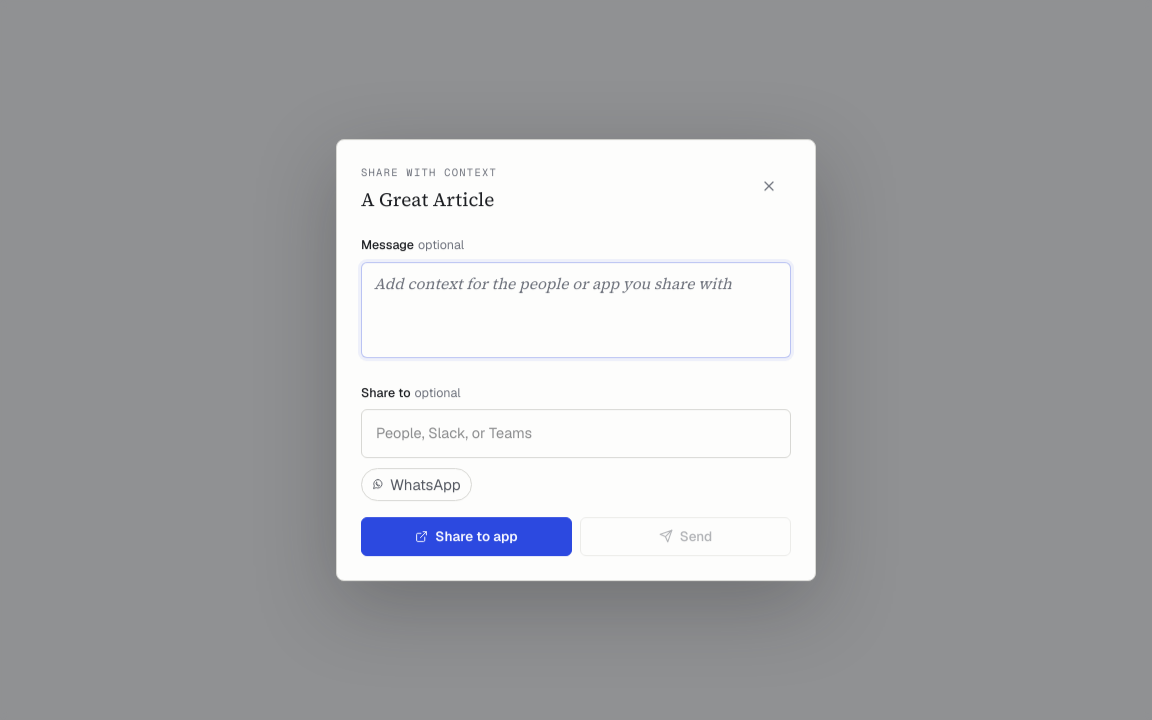
Test case: <ShareModal> › excludes already-added recipients from results and pluralises the count
In the dropdown labelled "Share to": (576, 434) [372, 416, 780, 451], type "@bo"
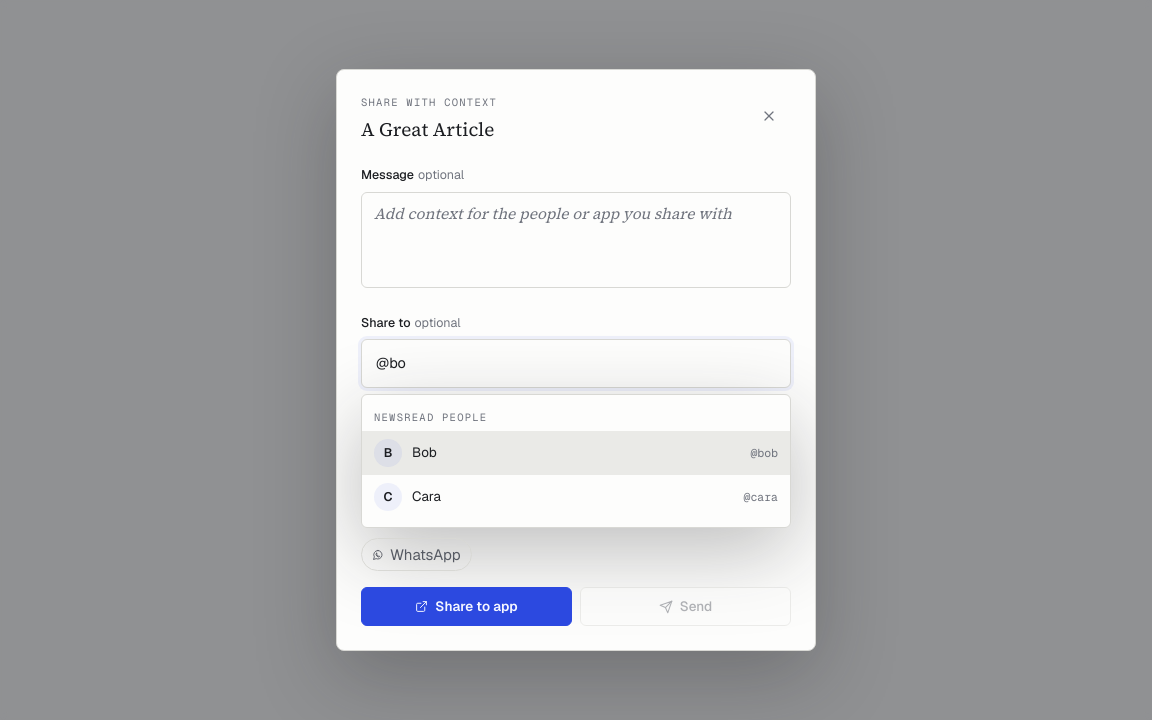
Click the text "Bob": (424, 452) [412, 443, 437, 461]
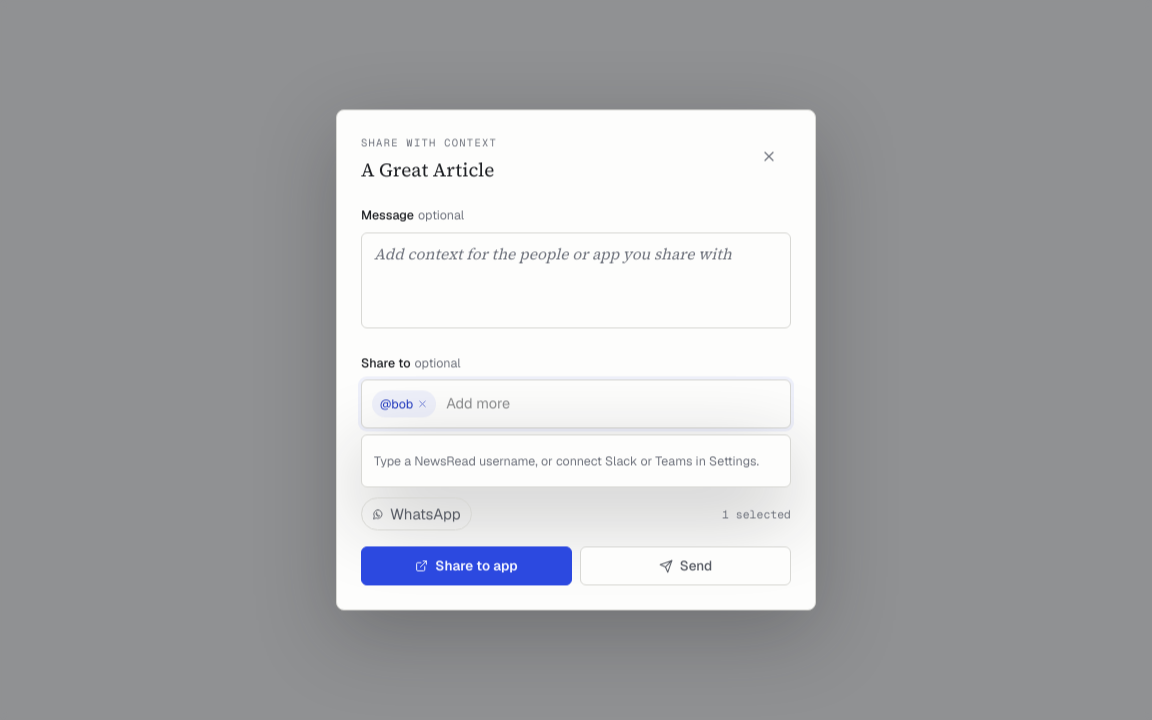
In the dropdown labelled "Share to": (611, 404) [442, 387, 780, 421], type "ca"
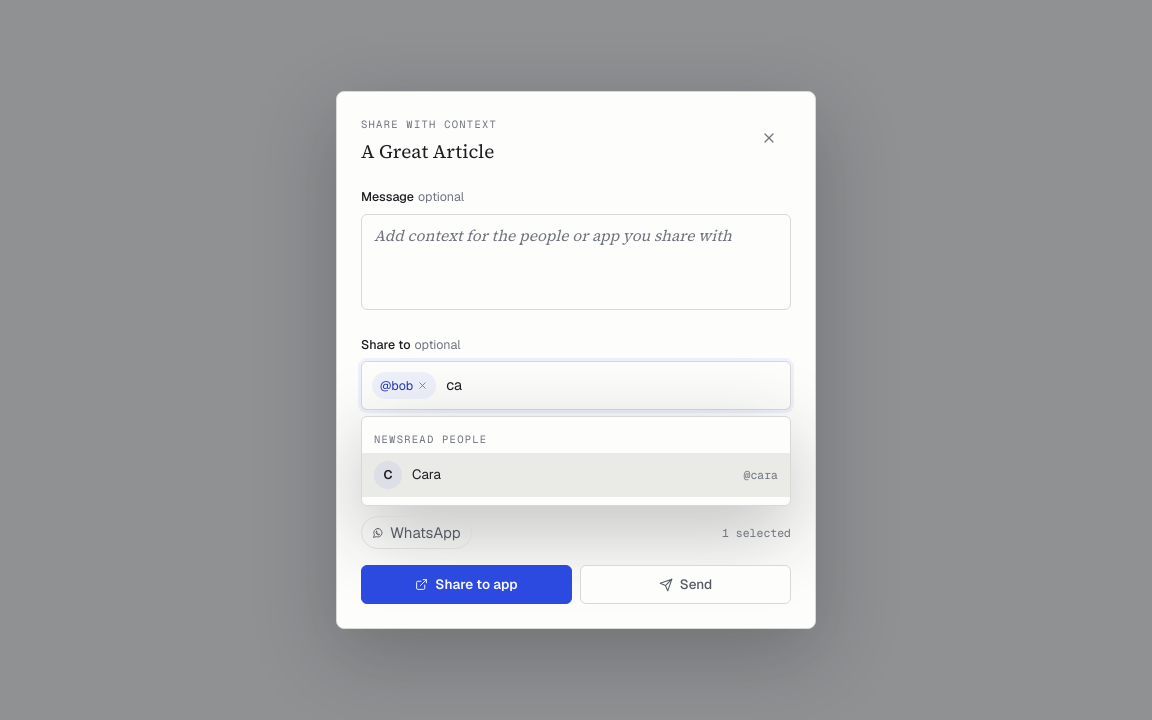
Now the text "Cara" is shown
Click the text "Cara": (426, 474) [412, 465, 441, 483]
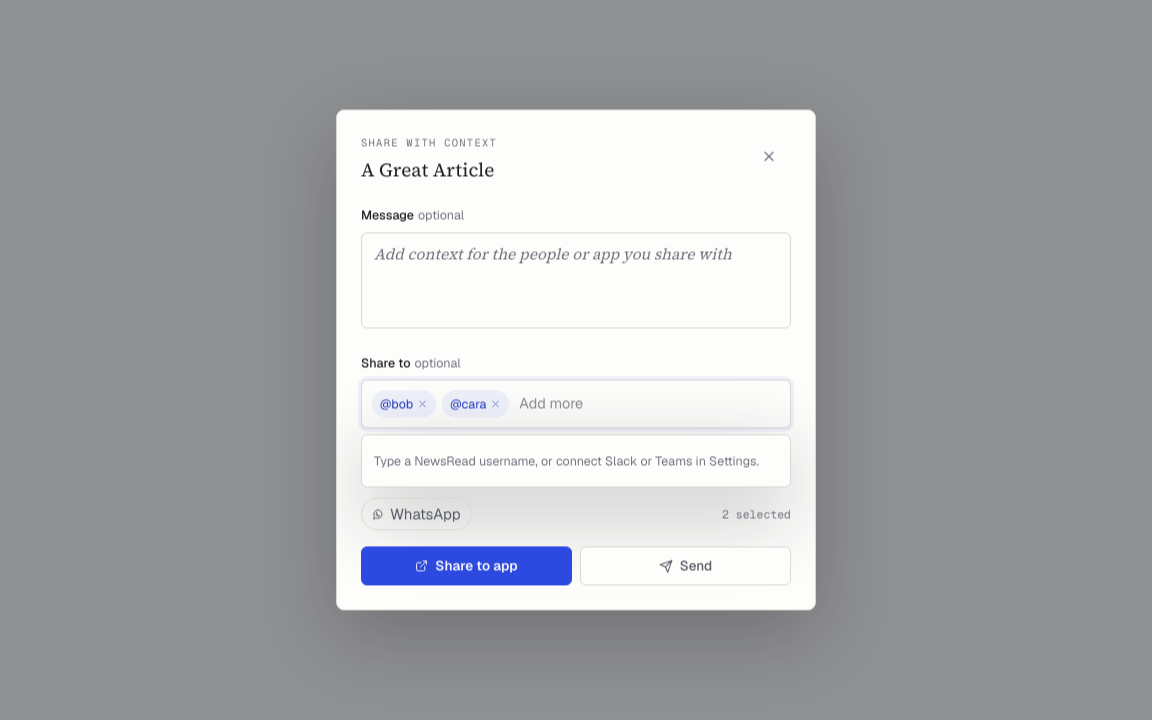
Now the text "2 selected" is shown, box [722, 505, 791, 523]
